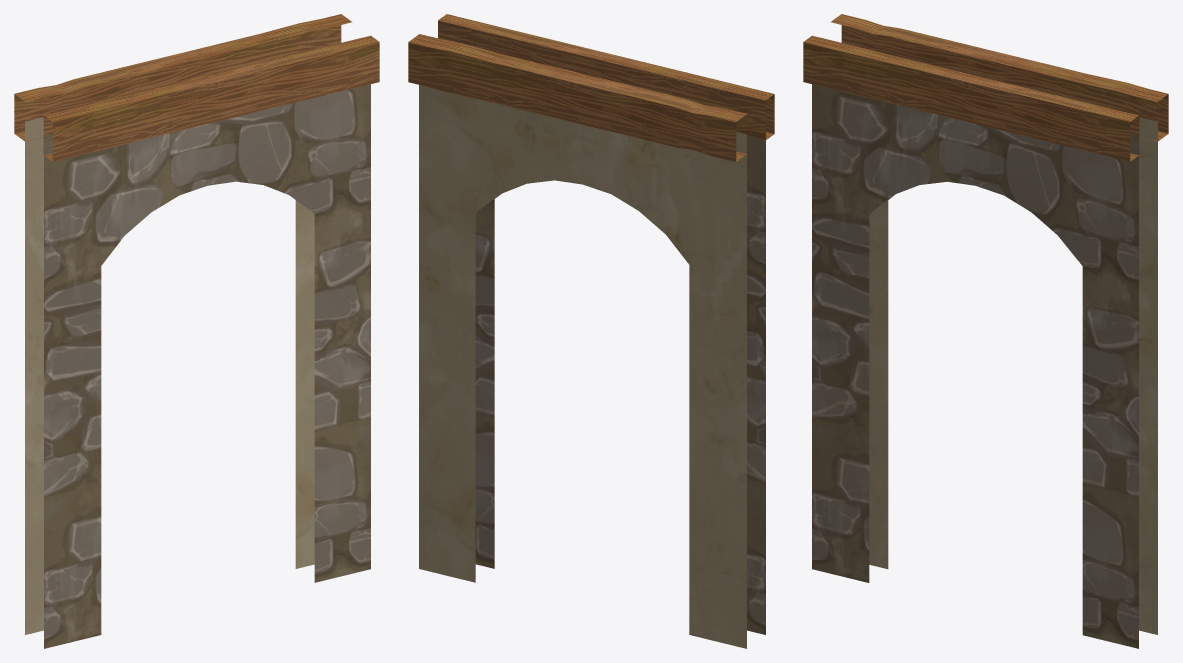
The model's file is Wall_UnevenBrick_Door_Round.gltf.
The picture shows the model from 3 angles, left to right: view 1: azimuth 30°, elevation 25°; view 2: azimuth 150°, elevation 25°; view 3: azimuth 330°, elevation 25°; orthographic projection.
Parts seen in each view (by area): view 1: Wall_UnevenBrick_Door_Round; view 2: Wall_UnevenBrick_Door_Round; view 3: Wall_UnevenBrick_Door_Round.
Part boxes in pixels (box(x1,y1,x2,y2)): Wall_UnevenBrick_Door_Round: box(14, 14, 379, 648); Wall_UnevenBrick_Door_Round: box(408, 14, 774, 648); Wall_UnevenBrick_Door_Round: box(803, 14, 1168, 648).
Bounding box in the file's own units: 2 × 3.12 × 0.4065.
3 materials, 3 textured.
